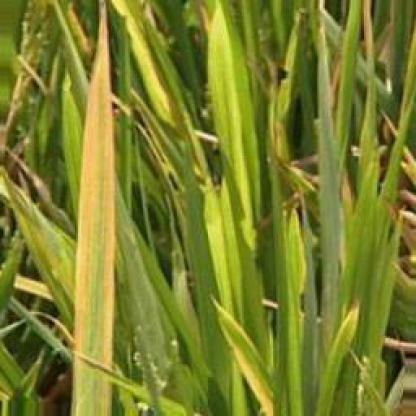Tungro: (66, 8, 125, 416)
